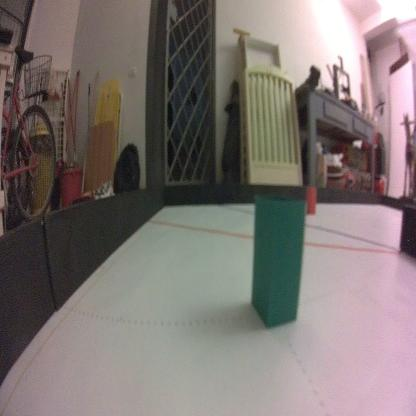green: (251, 188, 306, 336)
red: (303, 184, 317, 216)
